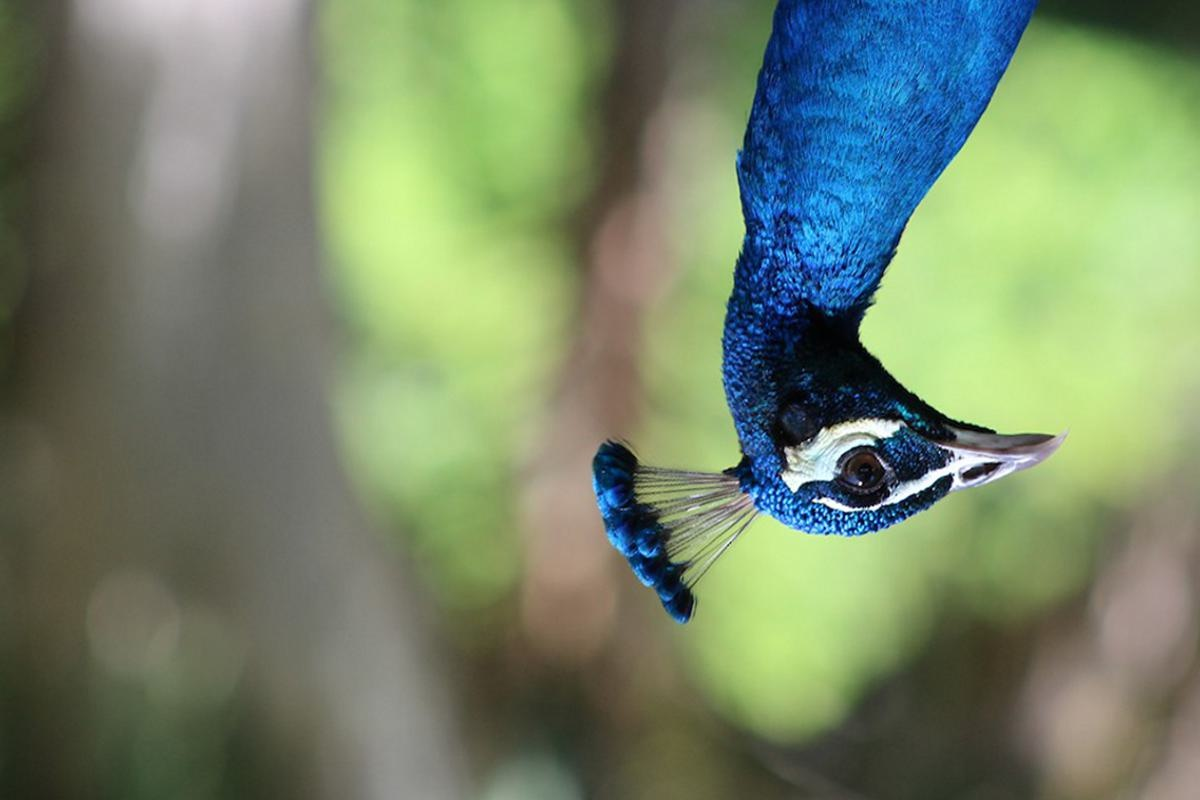peacock: (526, 1, 1200, 738)
